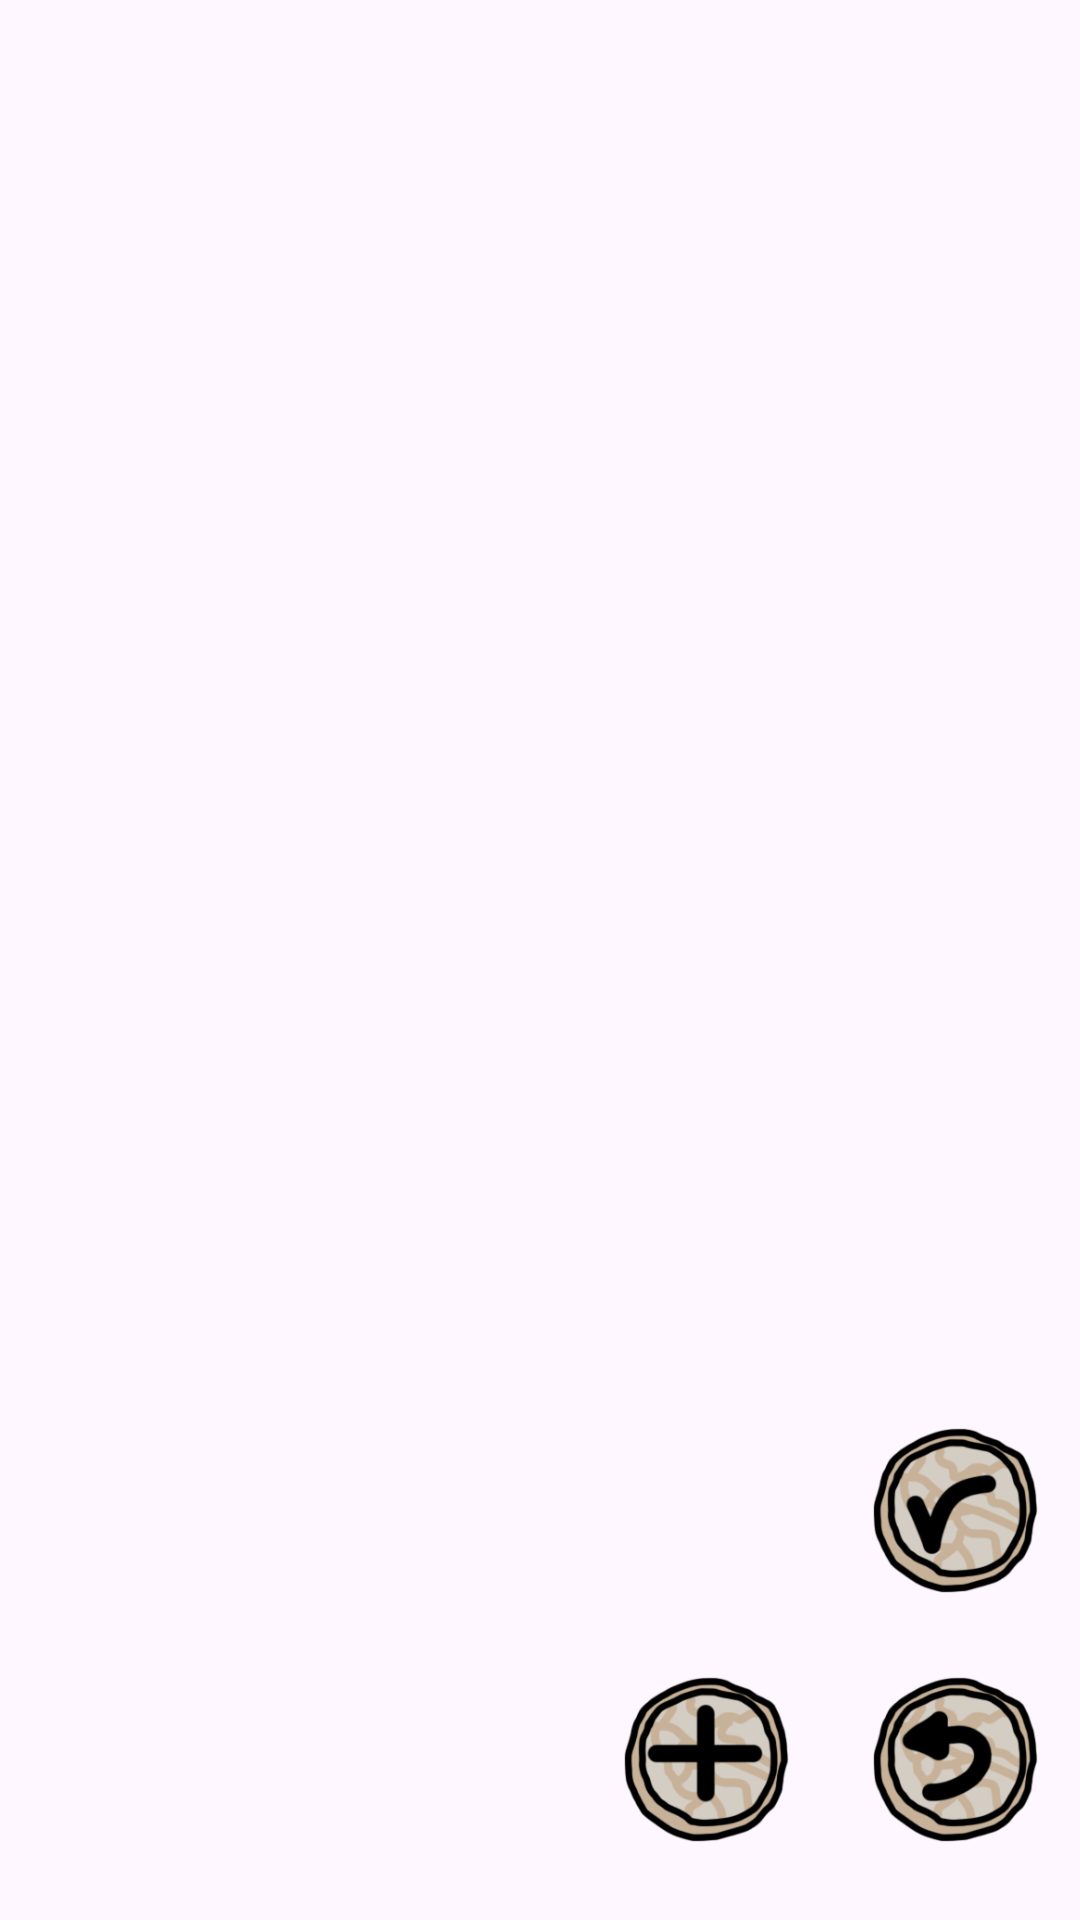

Icon click points for this 1080 x 1920 phone screenshot, format point (x, y):
add: point (706, 1759)
okay: point (955, 1510)
returner: point (955, 1759)
